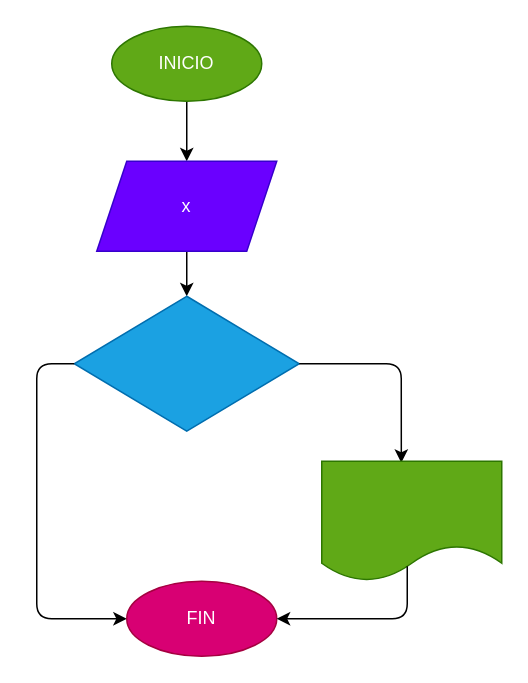
Image size: 528x683. Some labels were removed from this diagram. The box of each missing label's shape, as (x1, y1, x2, y2) in pixels:
Solución de la ecuación de primer grado: (320, 460, 502, 581)
x = (-1*b) / a: (73, 295, 299, 431)
